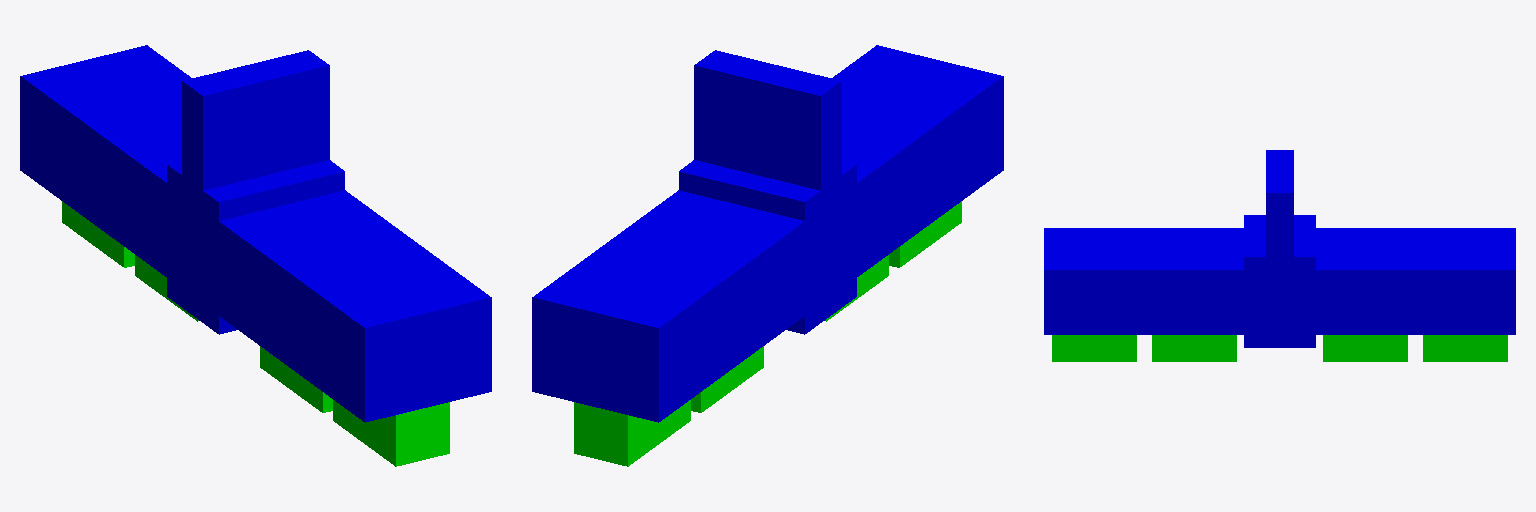
URDF robot description (robot):
<robot name = "robot">
    <link name="root">
        <inertial>
            <origin xyz="0.0 0.0 1.5" rpy="0 0 0"/>
            <mass value="1" />
            <inertia ixx="100" ixy="0" ixz="0" iyy="100" iyz="0" izz="100" />
        </inertial>
        <visual>
            <origin xyz="0.0 0.0 1.5" rpy="0 0 0"/>
            <geometry>
                <box size="0 0 0.0001" />
            </geometry>
            <material name="Green">
                <color rgba="0 1.0 0.0 1.0"/>
            </material>
        </visual>
        <collision>
            <origin xyz="0.0 0.0 1.5" rpy="0 0 0"/>
            <geometry>
                <box size="0 0 0.0001" />
            </geometry>
        </collision>
    </link>
    <joint name="root_000" type="revolute">
       <parent link="root"/>
       <child  link="000"/>
       <origin rpy="0 0 0" xyz="0.0 0.0 1.5" />
     <axis xyz="1 0 0"/>
       <limit effort="0.0" lower="-3.14159" upper="3.14159" velocity="0.0"/>
    </joint>
    <link name="000">
        <inertial>
            <origin xyz="0.0 0.1 0.0" rpy="0 0 0"/>
            <mass value="1" />
            <inertia ixx="100" ixy="0" ixz="0" iyy="100" iyz="0" izz="100" />
        </inertial>
        <visual>
            <origin xyz="0.0 0.1 0.0" rpy="0 0 0"/>
            <geometry>
                <box size="0.7 0.2 0.5" />
            </geometry>
            <material name="Blue">
                <color rgba="0 0.0 1.0 1.0"/>
            </material>
        </visual>
        <collision>
            <origin xyz="0.0 0.1 0.0" rpy="0 0 0"/>
            <geometry>
                <box size="0.7 0.2 0.5" />
            </geometry>
        </collision>
    </link>
    <joint name="000_000-100" type="revolute">
       <parent link="000"/>
       <child  link="000-100"/>
       <origin rpy="0 0 0" xyz="0.0 0.1 -0.25" />
     <axis xyz="0 0 1"/>
       <limit effort="0.0" lower="-3.14159" upper="3.14159" velocity="0.0"/>
    </joint>
    <link name="000-100">
        <inertial>
            <origin xyz="0.0 0.0 -0.35" rpy="0 0 0"/>
            <mass value="1" />
            <inertia ixx="100" ixy="0" ixz="0" iyy="100" iyz="0" izz="100" />
        </inertial>
        <visual>
            <origin xyz="0.0 0.0 -0.35" rpy="0 0 0"/>
            <geometry>
                <box size="0.7 0.5 0.7" />
            </geometry>
            <material name="Blue">
                <color rgba="0 0.0 1.0 1.0"/>
            </material>
        </visual>
        <collision>
            <origin xyz="0.0 0.0 -0.35" rpy="0 0 0"/>
            <geometry>
                <box size="0.7 0.5 0.7" />
            </geometry>
        </collision>
    </link>
    <joint name="000-100_000-100-200" type="revolute">
       <parent link="000-100"/>
       <child  link="000-100-200"/>
       <origin rpy="0 0 0" xyz="0.0 0.25 -0.35" />
     <axis xyz="0 1 0"/>
       <limit effort="0.0" lower="-3.14159" upper="3.14159" velocity="0.0"/>
    </joint>
    <link name="000-100-200">
        <inertial>
            <origin xyz="0.0 0.35 -0.0" rpy="0 0 0"/>
            <mass value="1" />
            <inertia ixx="100" ixy="0" ixz="0" iyy="100" iyz="0" izz="100" />
        </inertial>
        <visual>
            <origin xyz="0.0 0.35 -0.0" rpy="0 0 0"/>
            <geometry>
                <box size="0.7 0.7 0.5" />
            </geometry>
            <material name="Blue">
                <color rgba="0 0.0 1.0 1.0"/>
            </material>
        </visual>
        <collision>
            <origin xyz="0.0 0.35 -0.0" rpy="0 0 0"/>
            <geometry>
                <box size="0.7 0.7 0.5" />
            </geometry>
        </collision>
    </link>
    <joint name="000-100-200_000-100-210" type="revolute">
       <parent link="000-100-200"/>
       <child  link="000-100-210"/>
       <origin rpy="0 0 0" xyz="0.0 0.7 -0.0" />
     <axis xyz="0 1 0"/>
       <limit effort="0.0" lower="-3.14159" upper="3.14159" velocity="0.0"/>
    </joint>
    <link name="000-100-210">
        <inertial>
            <origin xyz="0.0 0.35 -0.0" rpy="0 0 0"/>
            <mass value="1" />
            <inertia ixx="100" ixy="0" ixz="0" iyy="100" iyz="0" izz="100" />
        </inertial>
        <visual>
            <origin xyz="0.0 0.35 -0.0" rpy="0 0 0"/>
            <geometry>
                <box size="0.7 0.7 0.5" />
            </geometry>
            <material name="Blue">
                <color rgba="0 0.0 1.0 1.0"/>
            </material>
        </visual>
        <collision>
            <origin xyz="0.0 0.35 -0.0" rpy="0 0 0"/>
            <geometry>
                <box size="0.7 0.7 0.5" />
            </geometry>
        </collision>
    </link>
    <joint name="000-100-210_000-100-210-300" type="revolute">
       <parent link="000-100-210"/>
       <child  link="000-100-210-300"/>
       <origin rpy="0 0 0" xyz="0.0 0.35 -0.25" />
     <axis xyz="0 0 1"/>
       <limit effort="0.0" lower="-3.14159" upper="3.14159" velocity="0.0"/>
    </joint>
    <link name="000-100-210-300">
        <inertial>
            <origin xyz="0.0 0.0 -0.15" rpy="0 0 0"/>
            <mass value="1" />
            <inertia ixx="100" ixy="0" ixz="0" iyy="100" iyz="0" izz="100" />
        </inertial>
        <visual>
            <origin xyz="0.0 0.0 -0.15" rpy="0 0 0"/>
            <geometry>
                <box size="0.3 0.6 0.3" />
            </geometry>
            <material name="Green">
                <color rgba="0 1.0 0.0 1.0"/>
            </material>
        </visual>
        <collision>
            <origin xyz="0.0 0.0 -0.15" rpy="0 0 0"/>
            <geometry>
                <box size="0.3 0.6 0.3" />
            </geometry>
        </collision>
    </link>
    <joint name="000-100-200_000-100-200-300" type="revolute">
       <parent link="000-100-200"/>
       <child  link="000-100-200-300"/>
       <origin rpy="0 0 0" xyz="0.0 0.35 -0.25" />
     <axis xyz="0 0 1"/>
       <limit effort="0.0" lower="-3.14159" upper="3.14159" velocity="0.0"/>
    </joint>
    <link name="000-100-200-300">
        <inertial>
            <origin xyz="0.0 0.0 -0.15" rpy="0 0 0"/>
            <mass value="1" />
            <inertia ixx="100" ixy="0" ixz="0" iyy="100" iyz="0" izz="100" />
        </inertial>
        <visual>
            <origin xyz="0.0 0.0 -0.15" rpy="0 0 0"/>
            <geometry>
                <box size="0.3 0.6 0.3" />
            </geometry>
            <material name="Green">
                <color rgba="0 1.0 0.0 1.0"/>
            </material>
        </visual>
        <collision>
            <origin xyz="0.0 0.0 -0.15" rpy="0 0 0"/>
            <geometry>
                <box size="0.3 0.6 0.3" />
            </geometry>
        </collision>
    </link>
    <joint name="000-100_000-100-201" type="revolute">
       <parent link="000-100"/>
       <child  link="000-100-201"/>
       <origin rpy="0 0 0" xyz="0.0 -0.25 -0.35" />
     <axis xyz="0 1 0"/>
       <limit effort="0.0" lower="-3.14159" upper="3.14159" velocity="0.0"/>
    </joint>
    <link name="000-100-201">
        <inertial>
            <origin xyz="0.0 -0.35 -0.0" rpy="0 0 0"/>
            <mass value="1" />
            <inertia ixx="100" ixy="0" ixz="0" iyy="100" iyz="0" izz="100" />
        </inertial>
        <visual>
            <origin xyz="0.0 -0.35 -0.0" rpy="0 0 0"/>
            <geometry>
                <box size="0.7 0.7 0.5" />
            </geometry>
            <material name="Blue">
                <color rgba="0 0.0 1.0 1.0"/>
            </material>
        </visual>
        <collision>
            <origin xyz="0.0 -0.35 -0.0" rpy="0 0 0"/>
            <geometry>
                <box size="0.7 0.7 0.5" />
            </geometry>
        </collision>
    </link>
    <joint name="000-100-201_000-100-211" type="revolute">
       <parent link="000-100-201"/>
       <child  link="000-100-211"/>
       <origin rpy="0 0 0" xyz="0.0 -0.7 -0.0" />
     <axis xyz="0 1 0"/>
       <limit effort="0.0" lower="-3.14159" upper="3.14159" velocity="0.0"/>
    </joint>
    <link name="000-100-211">
        <inertial>
            <origin xyz="0.0 -0.35 -0.0" rpy="0 0 0"/>
            <mass value="1" />
            <inertia ixx="100" ixy="0" ixz="0" iyy="100" iyz="0" izz="100" />
        </inertial>
        <visual>
            <origin xyz="0.0 -0.35 -0.0" rpy="0 0 0"/>
            <geometry>
                <box size="0.7 0.7 0.5" />
            </geometry>
            <material name="Blue">
                <color rgba="0 0.0 1.0 1.0"/>
            </material>
        </visual>
        <collision>
            <origin xyz="0.0 -0.35 -0.0" rpy="0 0 0"/>
            <geometry>
                <box size="0.7 0.7 0.5" />
            </geometry>
        </collision>
    </link>
    <joint name="000-100-211_000-100-211-300" type="revolute">
       <parent link="000-100-211"/>
       <child  link="000-100-211-300"/>
       <origin rpy="0 0 0" xyz="0.0 -0.35 -0.25" />
     <axis xyz="0 0 1"/>
       <limit effort="0.0" lower="-3.14159" upper="3.14159" velocity="0.0"/>
    </joint>
    <link name="000-100-211-300">
        <inertial>
            <origin xyz="0.0 -0.0 -0.15" rpy="0 0 0"/>
            <mass value="1" />
            <inertia ixx="100" ixy="0" ixz="0" iyy="100" iyz="0" izz="100" />
        </inertial>
        <visual>
            <origin xyz="0.0 -0.0 -0.15" rpy="0 0 0"/>
            <geometry>
                <box size="0.3 0.6 0.3" />
            </geometry>
            <material name="Green">
                <color rgba="0 1.0 0.0 1.0"/>
            </material>
        </visual>
        <collision>
            <origin xyz="0.0 -0.0 -0.15" rpy="0 0 0"/>
            <geometry>
                <box size="0.3 0.6 0.3" />
            </geometry>
        </collision>
    </link>
    <joint name="000-100-201_000-100-201-300" type="revolute">
       <parent link="000-100-201"/>
       <child  link="000-100-201-300"/>
       <origin rpy="0 0 0" xyz="0.0 -0.35 -0.25" />
     <axis xyz="0 0 1"/>
       <limit effort="0.0" lower="-3.14159" upper="3.14159" velocity="0.0"/>
    </joint>
    <link name="000-100-201-300">
        <inertial>
            <origin xyz="0.0 -0.0 -0.15" rpy="0 0 0"/>
            <mass value="1" />
            <inertia ixx="100" ixy="0" ixz="0" iyy="100" iyz="0" izz="100" />
        </inertial>
        <visual>
            <origin xyz="0.0 -0.0 -0.15" rpy="0 0 0"/>
            <geometry>
                <box size="0.3 0.6 0.3" />
            </geometry>
            <material name="Green">
                <color rgba="0 1.0 0.0 1.0"/>
            </material>
        </visual>
        <collision>
            <origin xyz="0.0 -0.0 -0.15" rpy="0 0 0"/>
            <geometry>
                <box size="0.3 0.6 0.3" />
            </geometry>
        </collision>
    </link>
</robot>

--- Facts derived from the render (not from the file) ---
Views: 3 orthographic renders of the robot side by side, from view 1: azimuth 30°, elevation 25°; view 2: azimuth 150°, elevation 25°; view 3: azimuth 270°, elevation 25°.
Model robot with 11 links and 10 joints (10 revolute), rooted at root, posed every joint at zero.
Visible links, largest first — view 1: [phone redacted] (×8), 000, 000-100; view 2: [phone redacted] (×8), 000, 000-100; view 3: [phone redacted] (×8), 000-100, 000.
Link boxes in pixels (<box>): [phone redacted] (×8): <box>20,45,491,466</box>; 000: <box>182,50,329,190</box>; 000-100: <box>167,160,344,334</box>; [phone redacted] (×8): <box>532,45,1003,466</box>; 000: <box>694,50,841,190</box>; 000-100: <box>679,160,856,334</box>; [phone redacted] (×8): <box>1044,228,1515,361</box>; 000-100: <box>1244,215,1315,347</box>; 000: <box>1266,150,1293,256</box>.
Size in the robot's own frame: 0.7 by 3.3 by 1.4 metres.
Geometry: primitives only (box / cylinder / sphere), no mesh files.
